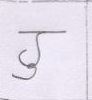u_matra: (13, 65, 39, 80)
